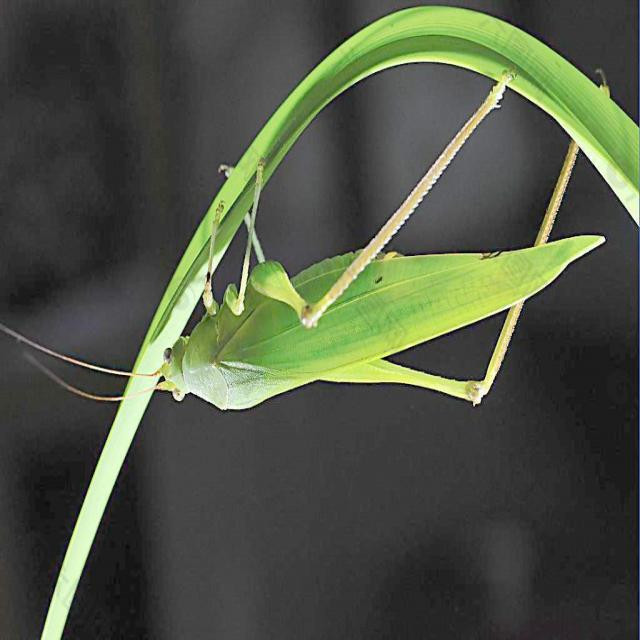ZhaMeng: (117, 72, 580, 415)
